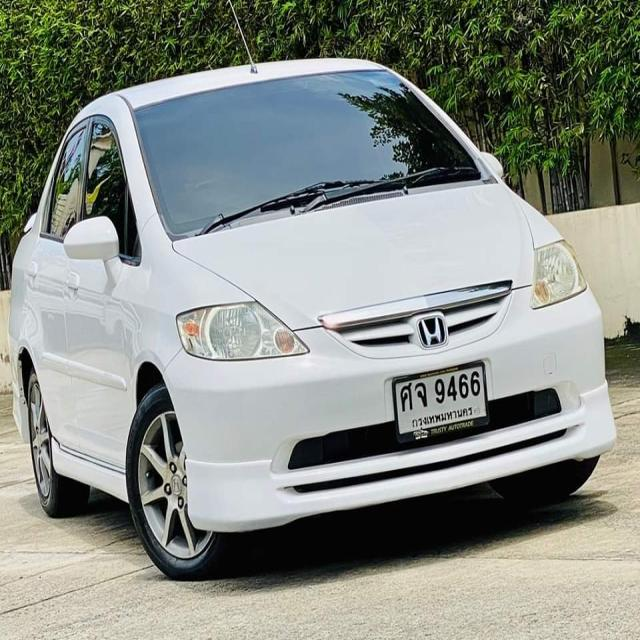license_plate: (389, 357, 492, 449)
